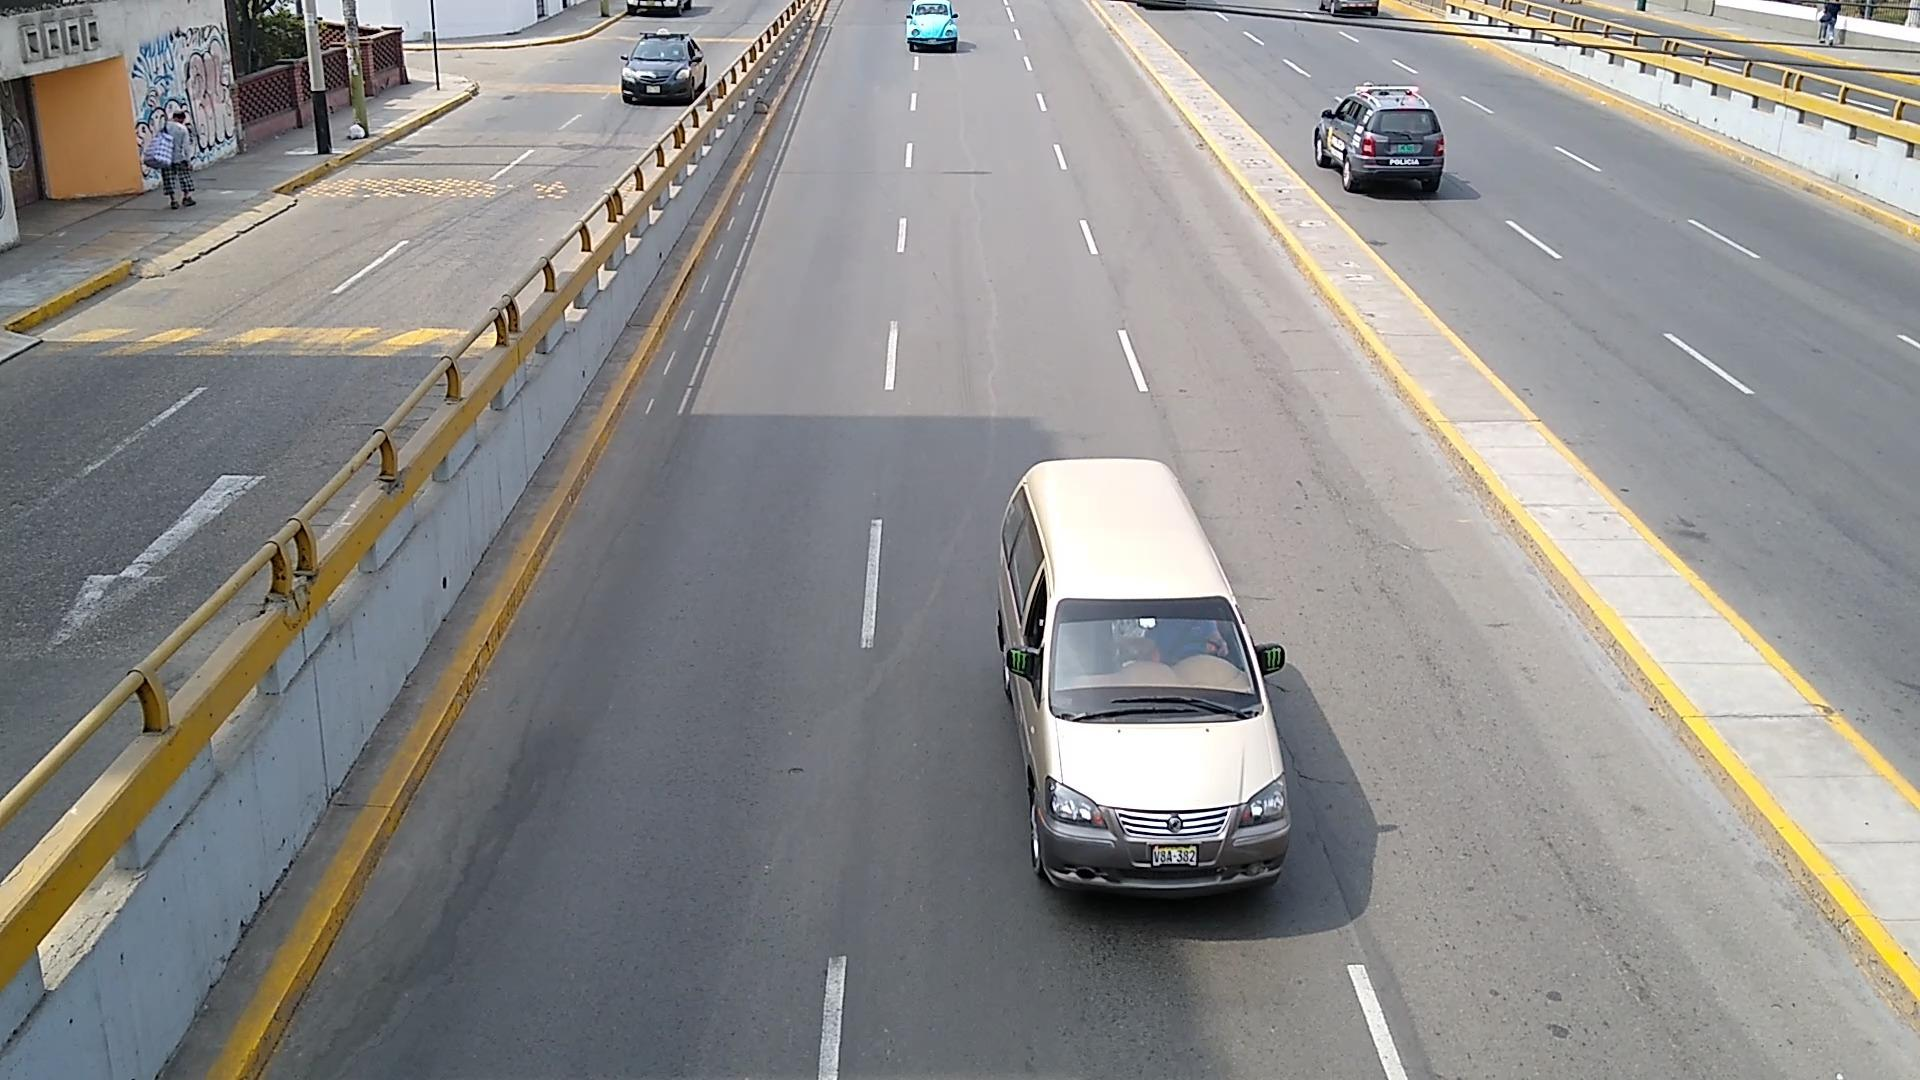car: (994, 458, 1290, 897), (1312, 83, 1444, 195), (622, 34, 708, 99), (146, 112, 195, 204), (907, 0, 956, 50)
